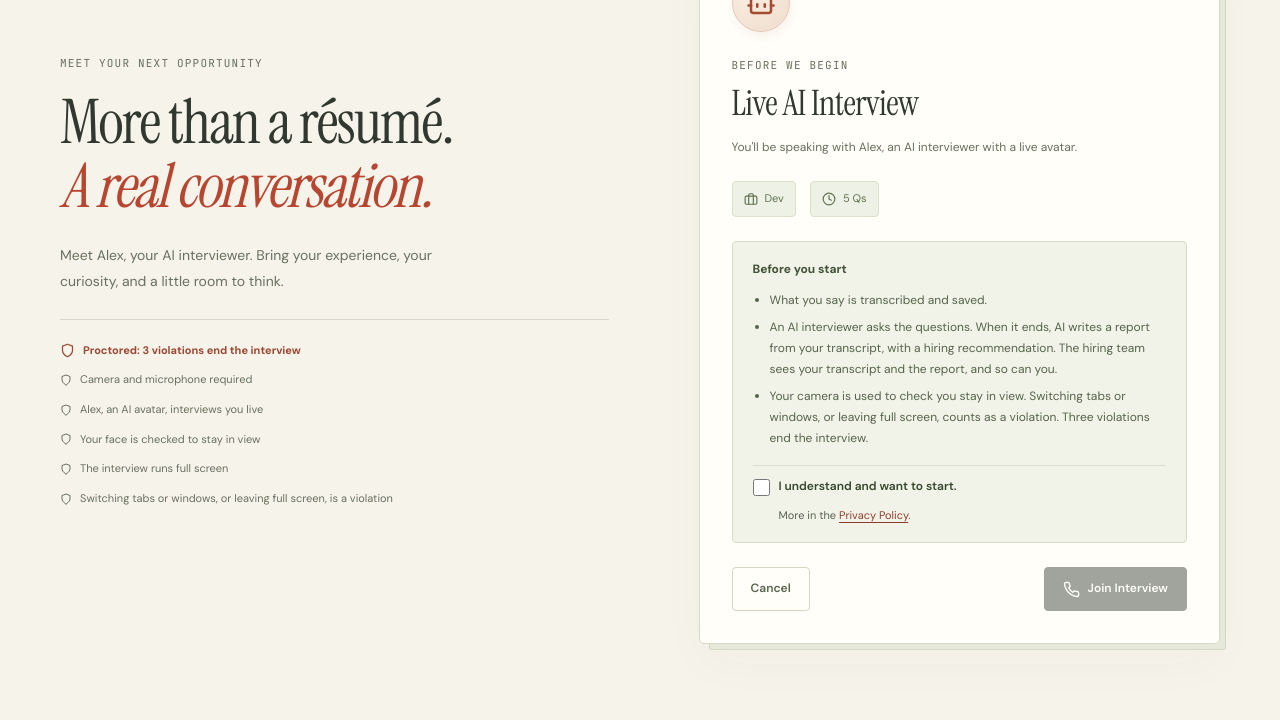
the video interview › also says the camera checks they stay in view
(page scrolled)
Check: the list item "Your camera is used to check you stay in view" is shown, box [770,388,1150,446]
Check: the button "Join Interview" is disabled, box [1044,568,1187,611]
Click the checkbox labelled "I understand and want to start." at (761, 487), box [752,479,770,496]
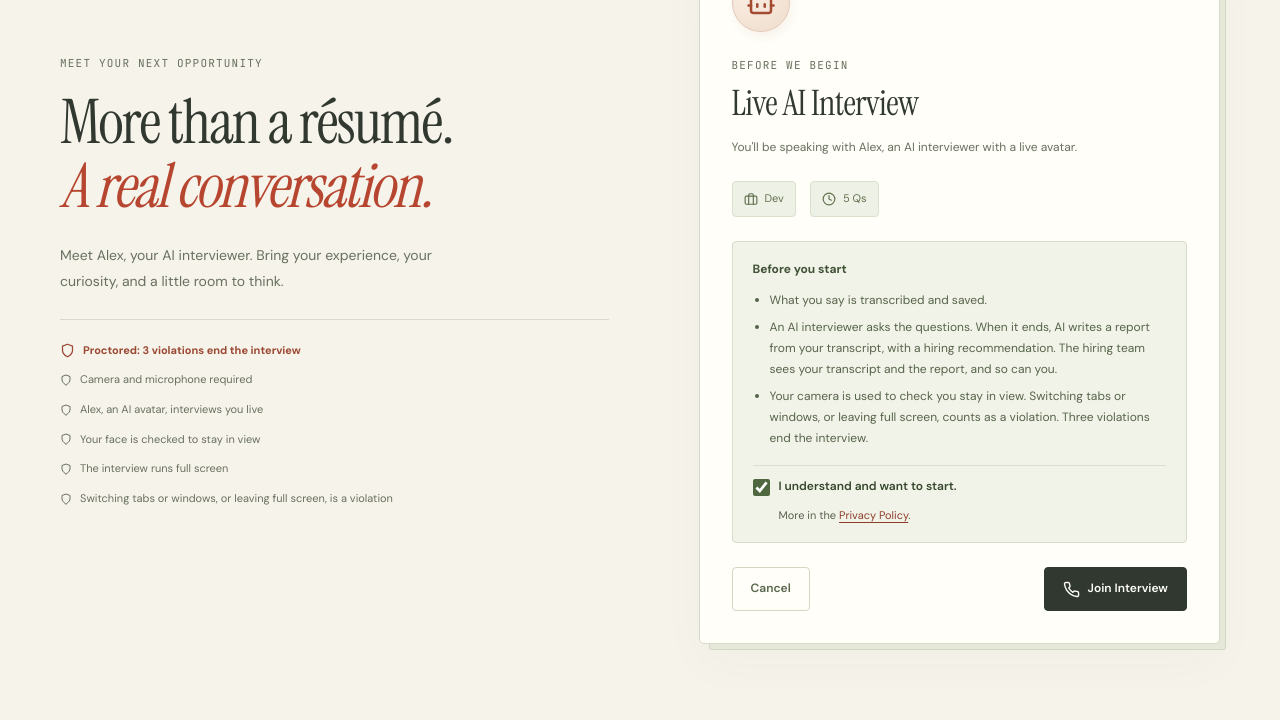
Check: the button "Join Interview" is enabled, box [1044,568,1187,611]
